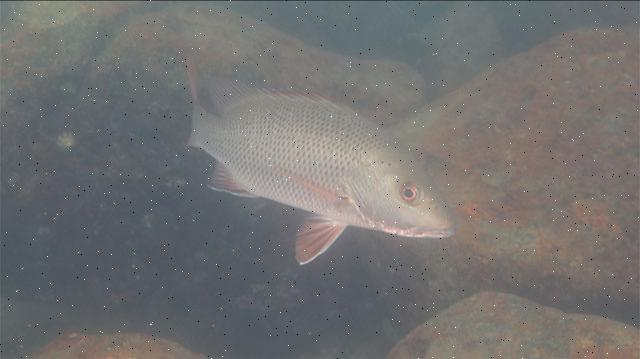Mulut: (376, 199, 476, 259)
Sirip Anal: (198, 155, 260, 213)
Sirip Dada: (260, 155, 358, 214)
Sirip Ekor: (166, 38, 210, 162)
Sirip Perut: (286, 203, 354, 273)
Sirip Punggung: (200, 69, 344, 129)
